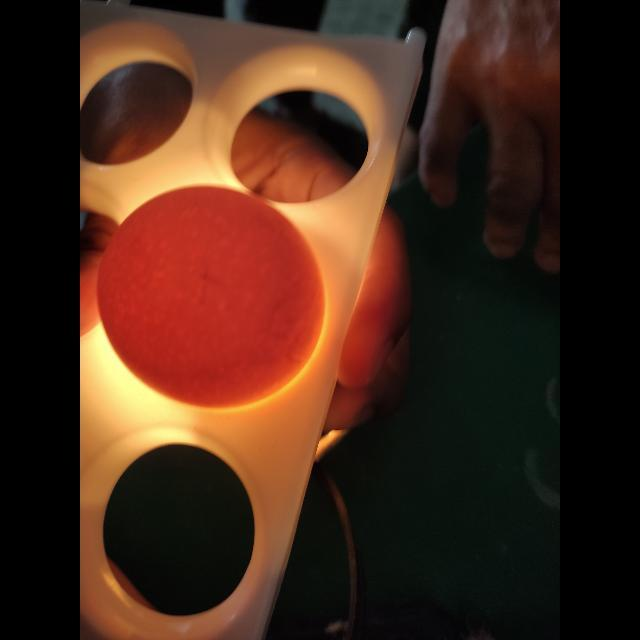Infertile: (94, 182, 322, 404)
